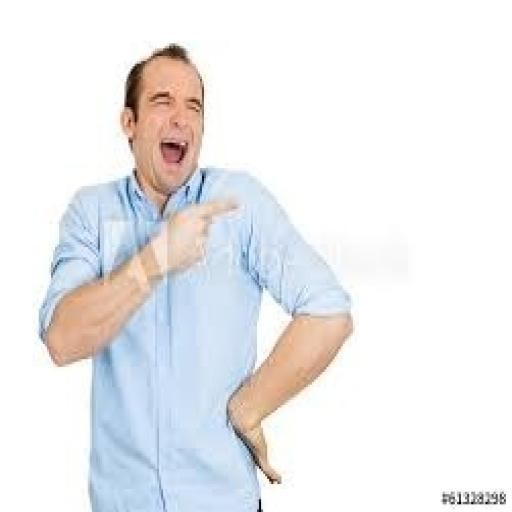laughing: (33, 36, 359, 510)
